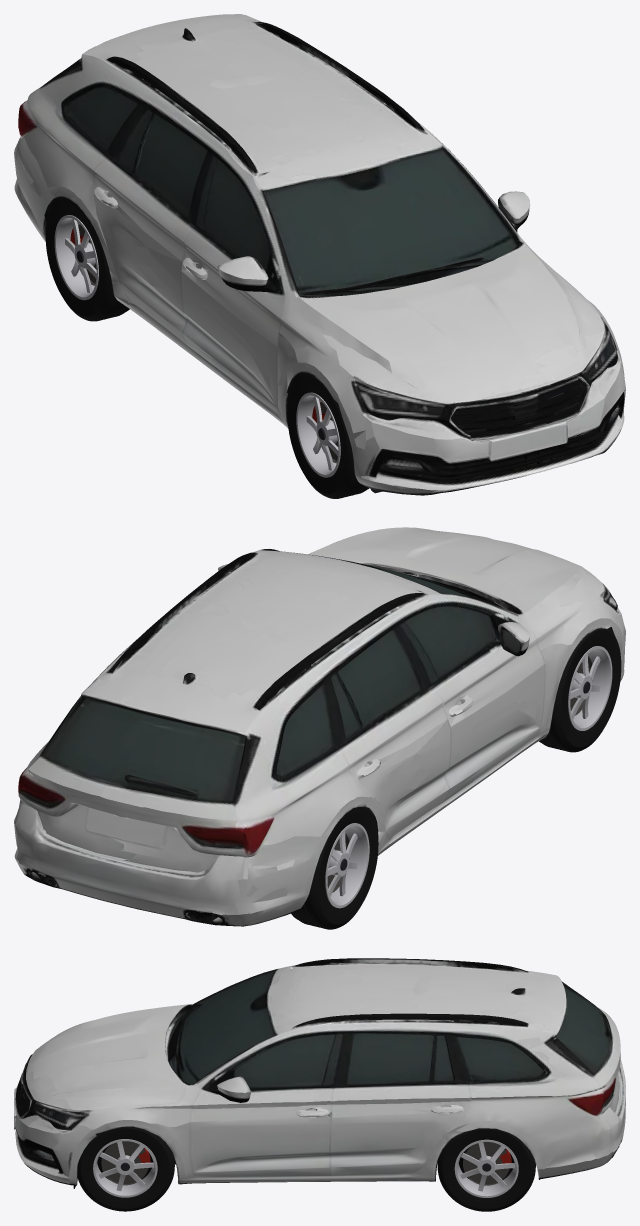
File: kombi.glb
The picture shows the model from 3 angles, top to bottom: view 1: azimuth 30°, elevation 25°; view 2: azimuth 150°, elevation 25°; view 3: azimuth 270°, elevation 25°; orthographic projection. The views are drawn at different scales.
Visible parts, largest first — view 1: karosserie, rad_vr, rad_hr; view 2: karosserie, rad_vr, rad_hr; view 3: karosserie, rad_vl, rad_hl.
Boxes of the visible parts, left/top/right/bottom form: karosserie: left=14, top=14, right=625, bottom=495; rad_vr: left=287, top=372, right=368, bottom=498; rad_hr: left=45, top=197, right=129, bottom=321; karosserie: left=14, top=527, right=625, bottom=926; rad_vr: left=539, top=627, right=621, bottom=752; rad_hr: left=291, top=806, right=378, bottom=929; karosserie: left=14, top=958, right=625, bottom=1188; rad_vl: left=77, top=1126, right=174, bottom=1211; rad_hl: left=437, top=1128, right=535, bottom=1211.
Size of the model in its own units: 2.01 by 1.5 by 4.7.
3 materials, 1 textured.
